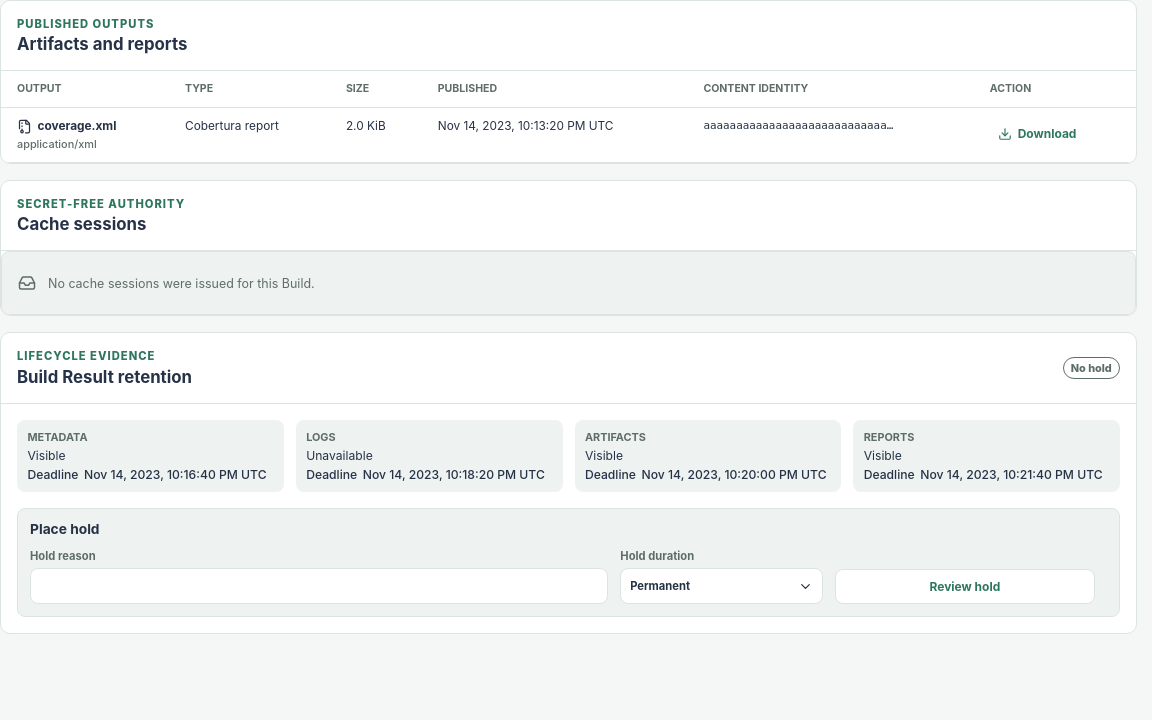
Test case: Build Result diagnostics › refuses a non-HTTP download capability
Click the button with aria-label "Download coverage.xml": point(1037, 134) [990,119,1085,149]
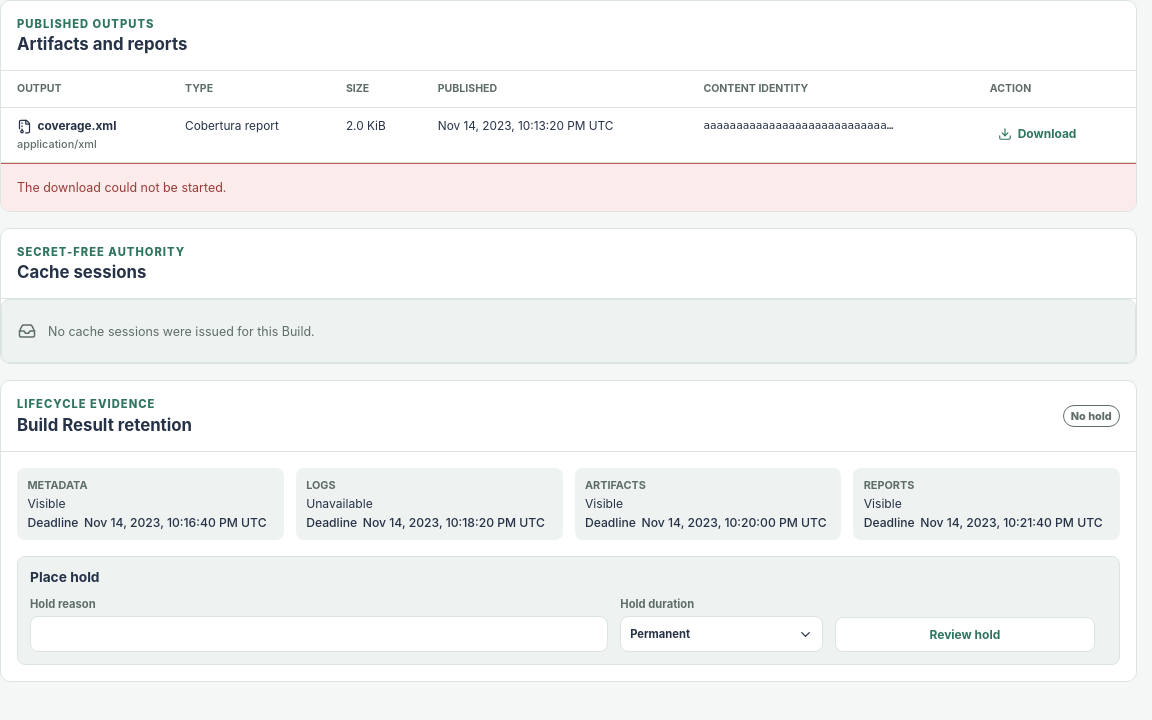
expect the message "The download could not be started." is shown: met, box [1,163,1136,211]
